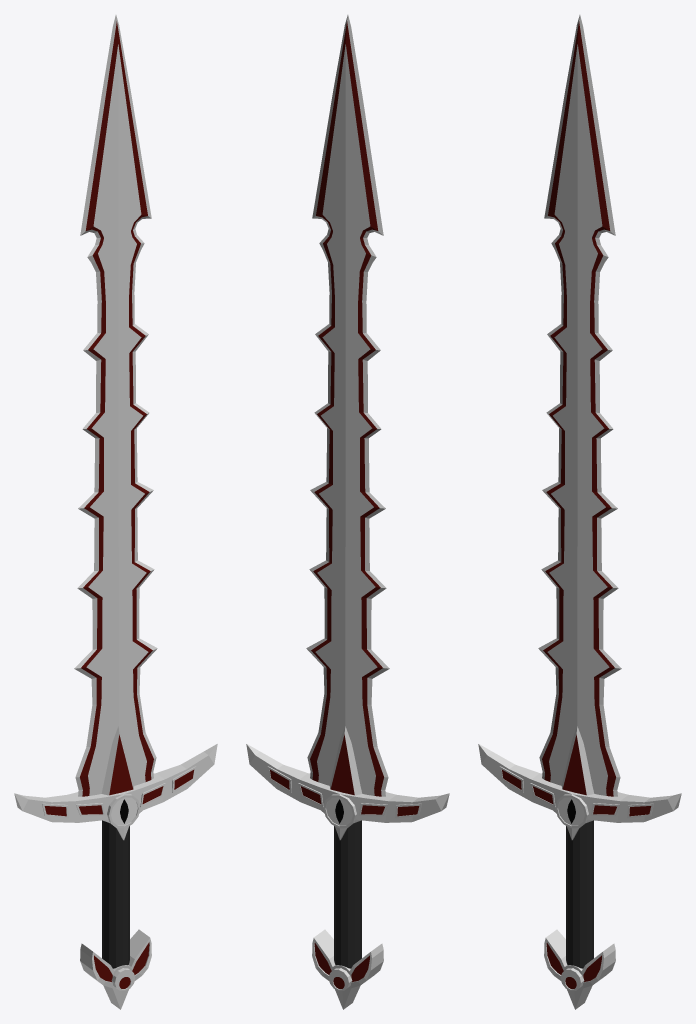
The model's file is FBX_Greatsword.fbx.
3 views of the same model, side by side, from view 1: azimuth 30°, elevation 25°; view 2: azimuth 150°, elevation 25°; view 3: azimuth 330°, elevation 25° (orthographic).
Parts seen in each view (by area): view 1: Sword; view 2: Sword; view 3: Sword.
Part boxes in pixels (x1=…): Sword: x1=14, y1=15, x2=217, y2=1009; Sword: x1=246, y1=15, x2=449, y2=1009; Sword: x1=478, y1=15, x2=681, y2=1009.
Size of the model in its own units: 0.5082 by 2.37 by 0.0797.
